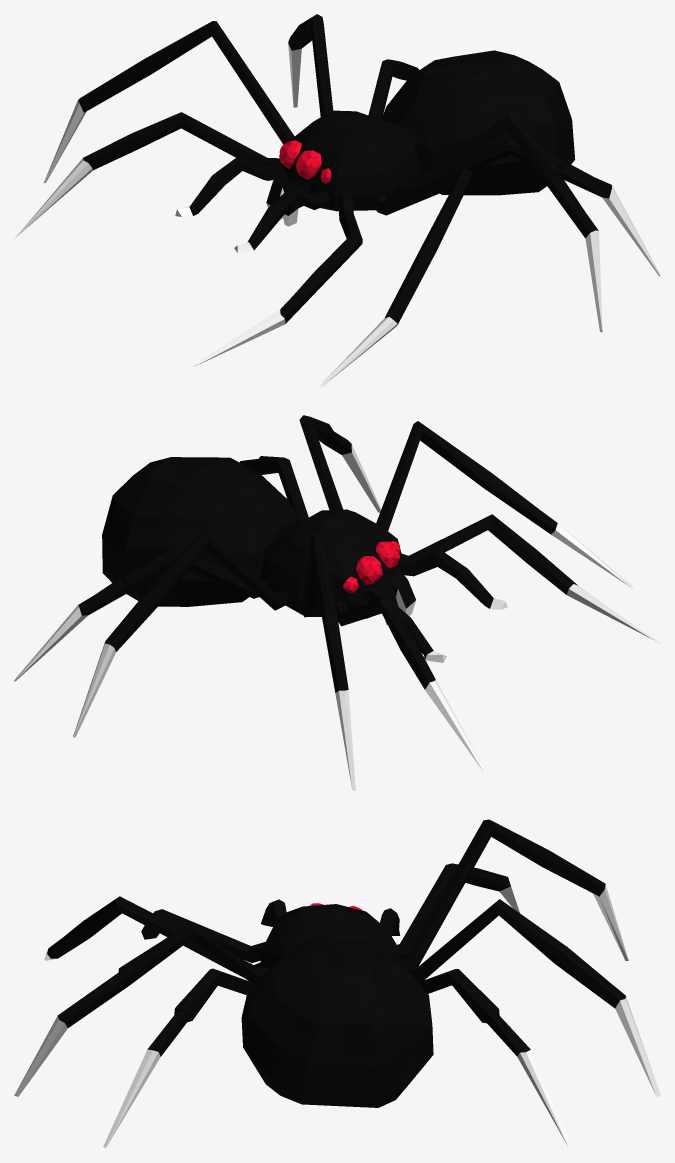
The model's file is spiderIdle3.obj.
The picture shows the model from 3 angles, top to bottom: view 1: azimuth 30°, elevation 25°; view 2: azimuth 150°, elevation 25°; view 3: azimuth 270°, elevation 25°; orthographic projection. The views are drawn at different scales.
Visible parts, largest first — view 1: Cube.003_Cube.004; view 2: Cube.003_Cube.004; view 3: Cube.003_Cube.004.
Boxes of the visible parts, left/top/right/bottom form: Cube.003_Cube.004: left=15, top=14, right=660, bottom=386; Cube.003_Cube.004: left=14, top=415, right=660, bottom=790; Cube.003_Cube.004: left=14, top=819, right=660, bottom=1148.
Size of the model in its own units: 29.42 by 11.4 by 34.52.
